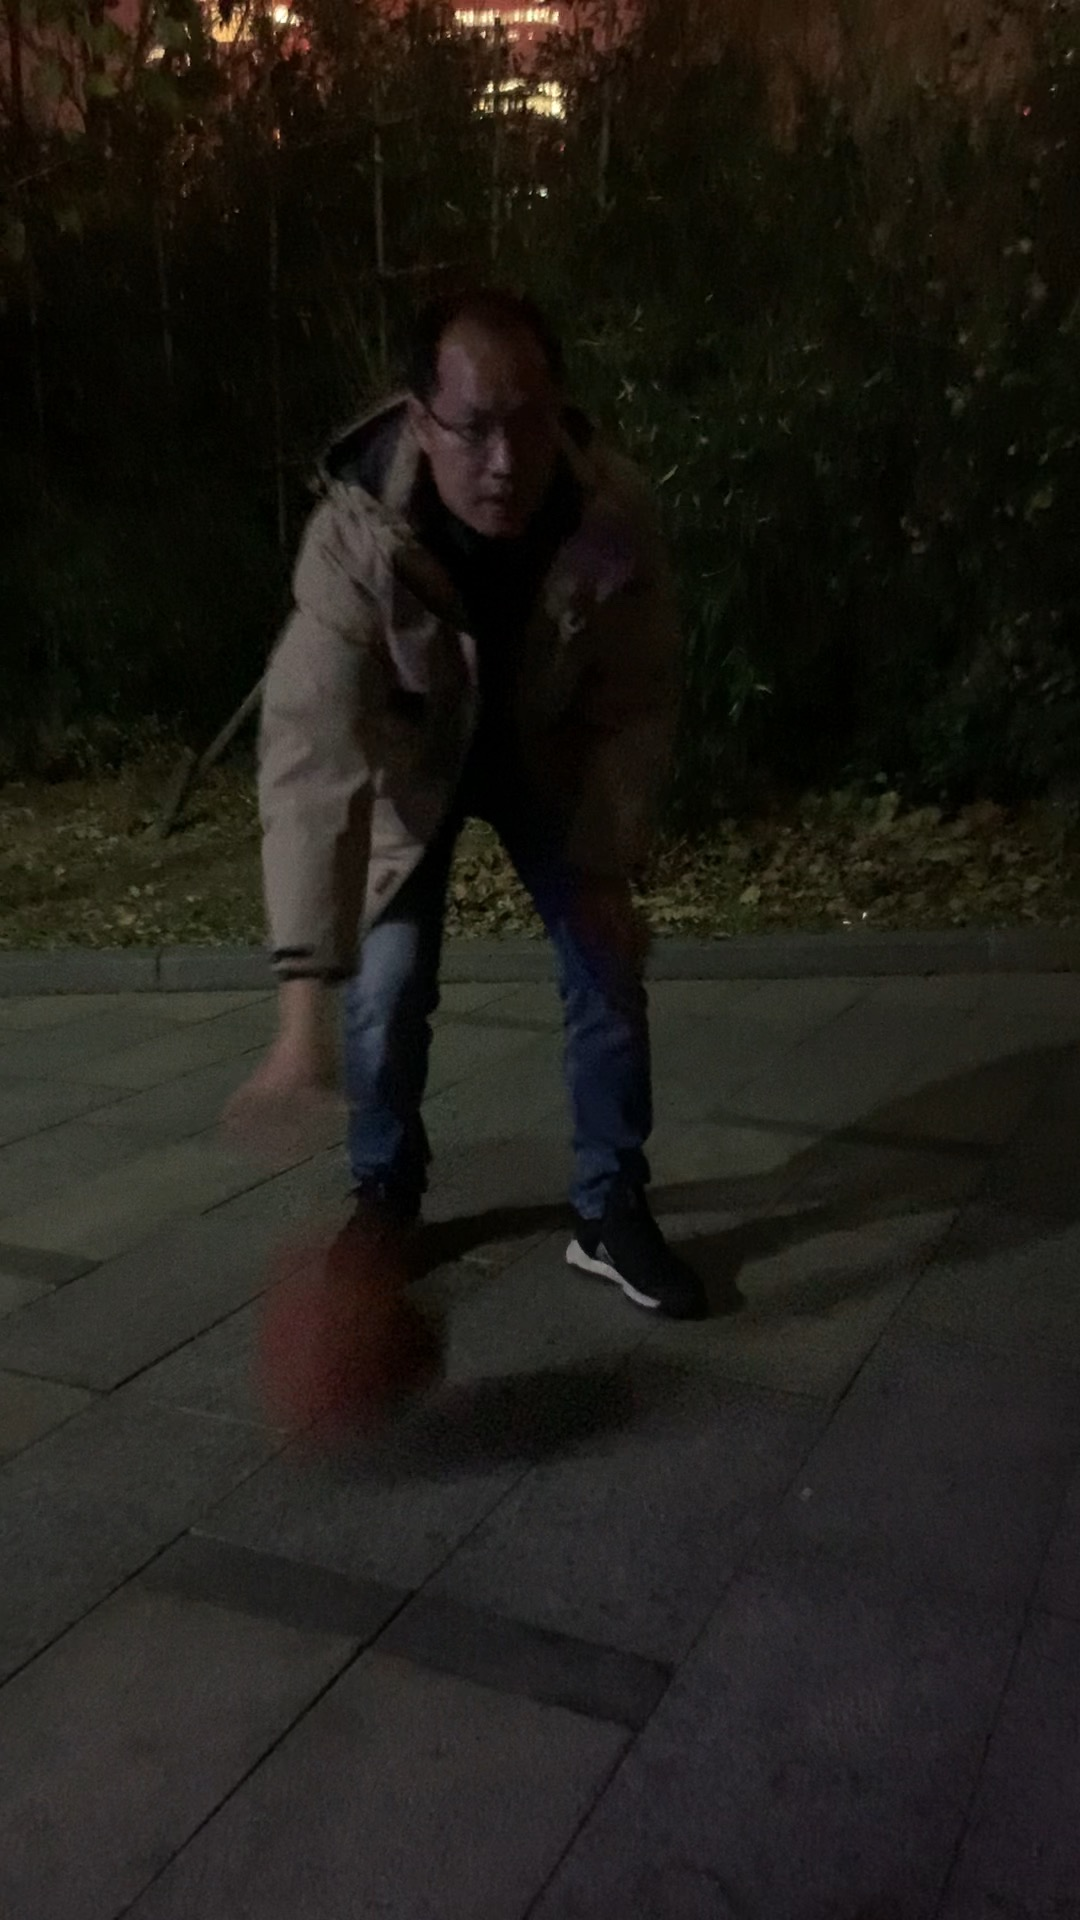ball: (258, 1255, 458, 1439)
